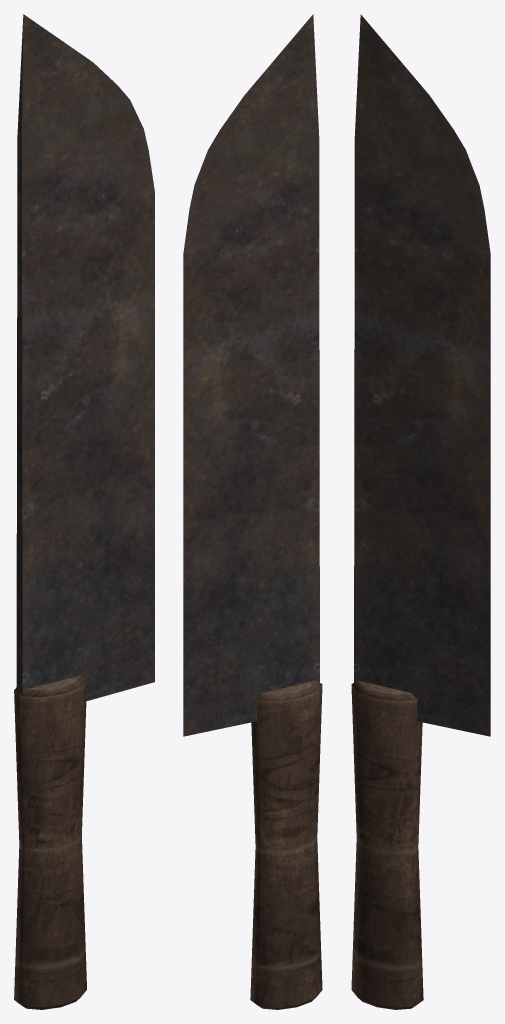
The model's file is Knife.fbx.
3 views of the same model, side by side, from view 1: azimuth 30°, elevation 25°; view 2: azimuth 210°, elevation 25°; view 3: azimuth 330°, elevation 25° (orthographic).
Visible parts, largest first — view 1: Cylinder.001; view 2: Cylinder.001; view 3: Cylinder.001.
Part boxes in pixels (bbox=[...]): Cylinder.001: bbox=[14, 14, 154, 1009]; Cylinder.001: bbox=[183, 14, 322, 1009]; Cylinder.001: bbox=[351, 14, 490, 1009].
Size of the model in its own units: 0.107 by 0.0337 by 0.7402.
